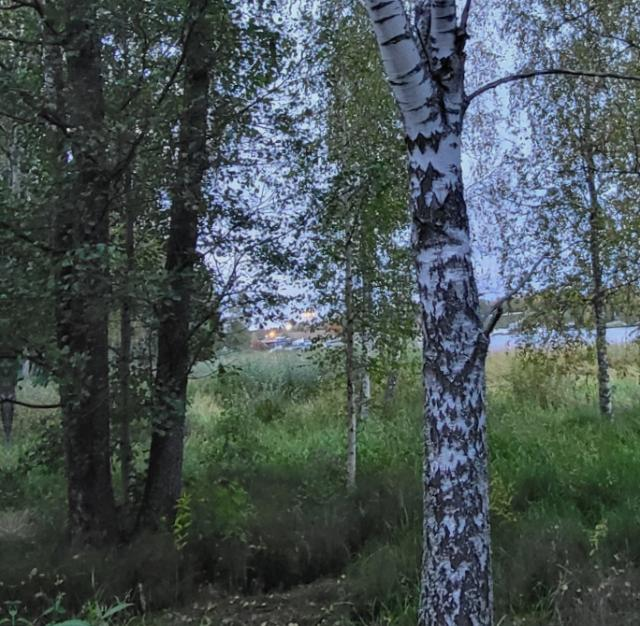birch: (356, 0, 532, 626)
